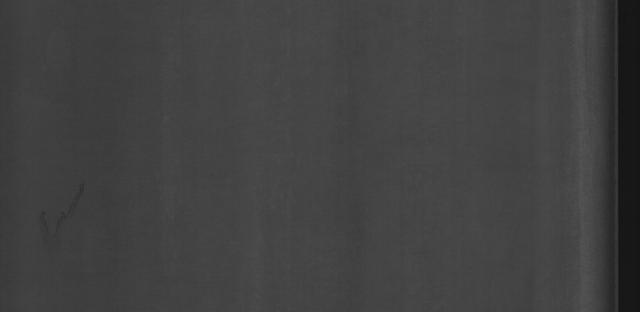water_spot: (25, 178, 108, 250)
